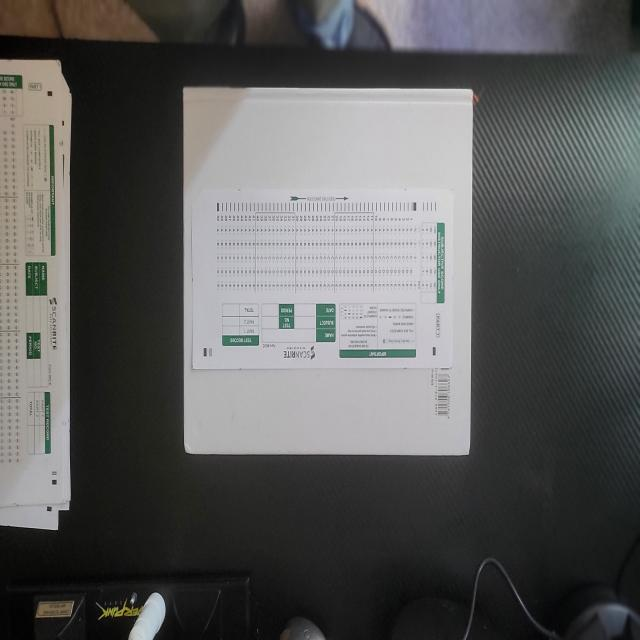scantron: (192, 188, 453, 369)
